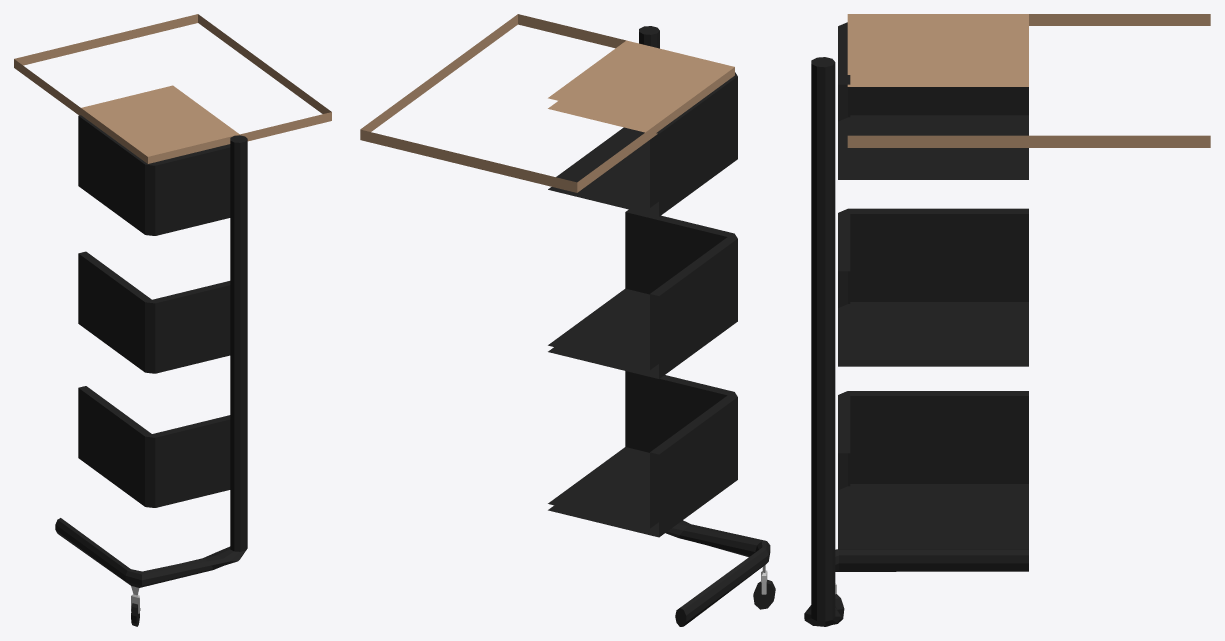
The model's file is kitchenfurtniture.gltf.
3 views of the same model, side by side, from view 1: azimuth 30°, elevation 25°; view 2: azimuth 150°, elevation 25°; view 3: azimuth 270°, elevation 25° (orthographic). The views are drawn at different scales.
Visible parts, largest first — view 1: Cube; view 2: Cube; view 3: Cube.
Boxes of the visible parts, <box> form: Cube: <box>14,14,331,626</box>; Cube: <box>360,14,775,626</box>; Cube: <box>804,14,1210,626</box>.
Bounding box in the file's own units: 0.5149 × 1.09 × 0.6372.
1 material, 1 textured.
